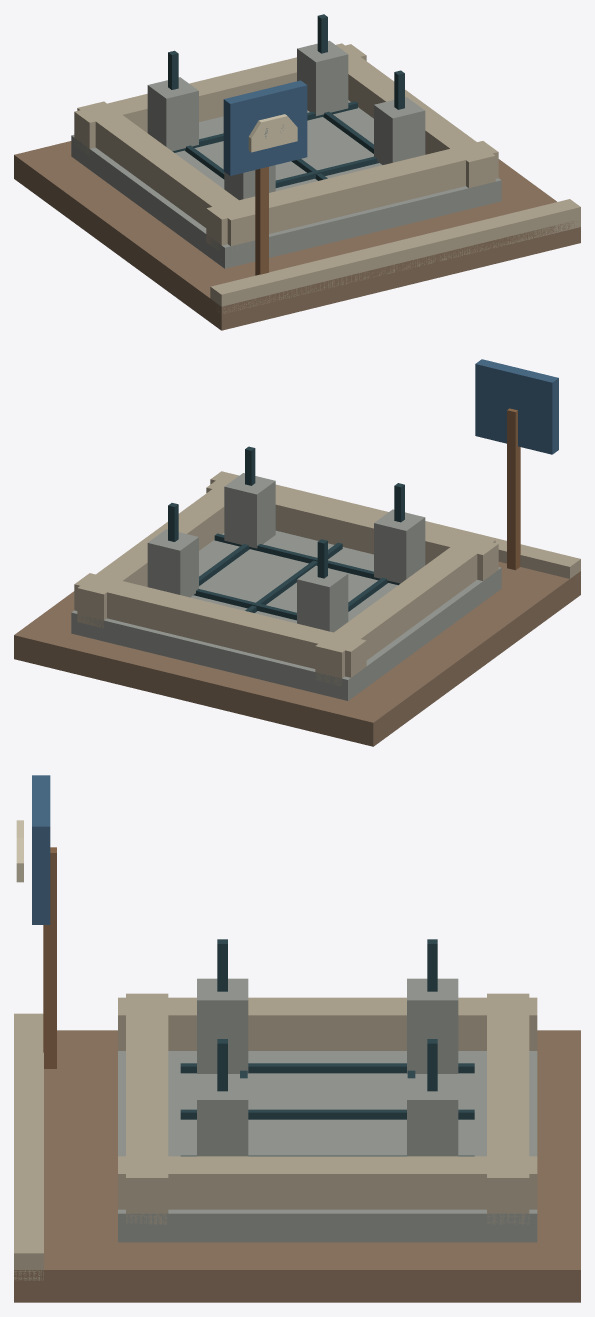
File: bakery-seabreeze-foundation.glb
The picture shows the model from 3 angles, top to bottom: view 1: azimuth 30°, elevation 25°; view 2: azimuth 150°, elevation 25°; view 3: azimuth 270°, elevation 25°; orthographic projection. The views are drawn at different scales.
Visible parts, largest first — view 1: bakery; view 2: bakery; view 3: bakery.
Boxes of the visible parts, bbox=[...] form: bakery: bbox=[14, 14, 580, 330]; bakery: bbox=[14, 359, 580, 746]; bakery: bbox=[14, 775, 580, 1302].
Bounding box in the file's own units: 1.88 × 1.09 × 1.88.
